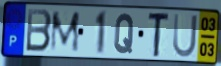1: (94, 9, 110, 57)
B: (25, 8, 54, 54)
M: (49, 10, 82, 54)
Q: (112, 12, 136, 56)
T: (147, 11, 172, 59)
U: (172, 13, 199, 60)
